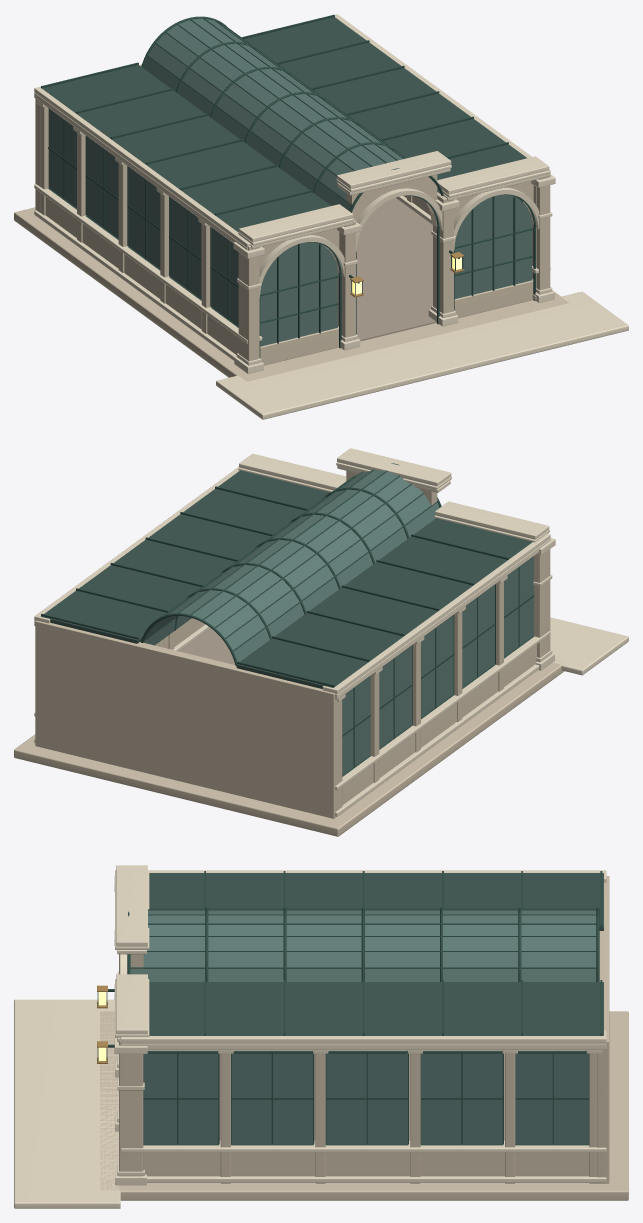
Rendered from orangerie.glb.
3 views of the same model, one above another, from view 1: azimuth 30°, elevation 25°; view 2: azimuth 150°, elevation 25°; view 3: azimuth 270°, elevation 25° (orthographic). The views are drawn at different scales.
Visible parts, largest first — view 1: ROOF_Wing, ENV_Terrace, ROOF_Wing.001, ENV_GalleryFloor, ENV_Foundation, GLASS_FrontPane.001, GLASS_FrontPane, ARCH_SideBase, GLASS_Roof.009, GLASS_Roof.008, GLASS_Roof.010, GLASS_Roof.007 (+32 smaller); view 2: ARCH_RearWall, ROOF_Wing, ROOF_Wing.001, ENV_Foundation, ARCH_SideBase, GLASS_Roof.009, GLASS_Roof.008, GLASS_Roof.010, GLASS_Roof.007, ENV_Terrace, GLASS_SidePane.002, GLASS_SidePane.003 (+21 smaller); view 3: ROOF_Wing.001, ENV_Terrace, ROOF_Wing, ENV_Foundation, ARCH_SideBase.001, GLASS_SidePane.007, GLASS_SidePane.008, GLASS_SidePane.006, GLASS_Roof.002, GLASS_SidePane.009, GLASS_SidePane.005, GLASS_Roof.001 (+25 smaller).
Boxes of the visible parts, box(x1,y1,x2,y2) form: ROOF_Wing: box(41, 65, 330, 232); ENV_Terrace: box(216, 291, 628, 419); ROOF_Wing.001: box(244, 17, 526, 179); ENV_GalleryFloor: box(322, 197, 436, 341); ENV_Foundation: box(14, 207, 568, 381); GLASS_FrontPane.001: box(454, 194, 532, 298); GLASS_FrontPane: box(260, 242, 337, 346); ARCH_SideBase: box(45, 197, 238, 354); GLASS_Roof.009: box(148, 43, 346, 199); GLASS_Roof.008: box(156, 33, 353, 175); GLASS_Roof.010: box(143, 56, 351, 210); GLASS_Roof.007: box(166, 25, 370, 170); ARCH_RearWall: box(35, 620, 338, 818); ROOF_Wing: box(236, 518, 532, 688); ROOF_Wing.001: box(41, 470, 330, 643); ENV_Foundation: box(14, 656, 564, 836); ARCH_SideBase: box(342, 644, 536, 805); GLASS_Roof.009: box(226, 494, 430, 650); GLASS_Roof.008: box(215, 484, 422, 637); GLASS_Roof.010: box(233, 502, 439, 661); GLASS_Roof.007: box(204, 476, 410, 627); ENV_Terrace: box(550, 617, 628, 675); GLASS_SidePane.002: box(421, 615, 453, 717); GLASS_SidePane.003: box(379, 646, 411, 748); ROOF_Wing.001: box(149, 982, 603, 1035); ENV_Terrace: box(14, 999, 120, 1208); ROOF_Wing: box(149, 873, 603, 930); ENV_Foundation: box(100, 1011, 628, 1200); ARCH_SideBase.001: box(143, 1152, 589, 1176); GLASS_SidePane.007: box(326, 1053, 407, 1143); GLASS_SidePane.008: box(421, 1053, 502, 1143); GLASS_SidePane.006: box(231, 1053, 312, 1143); GLASS_Roof.002: box(130, 952, 596, 967); GLASS_SidePane.009: box(515, 1053, 589, 1143); GLASS_SidePane.005: box(143, 1053, 218, 1143); GLASS_Roof.001: box(130, 968, 596, 981).
Bounding box in the file's own units: 14 × 6.31 × 17.85.
